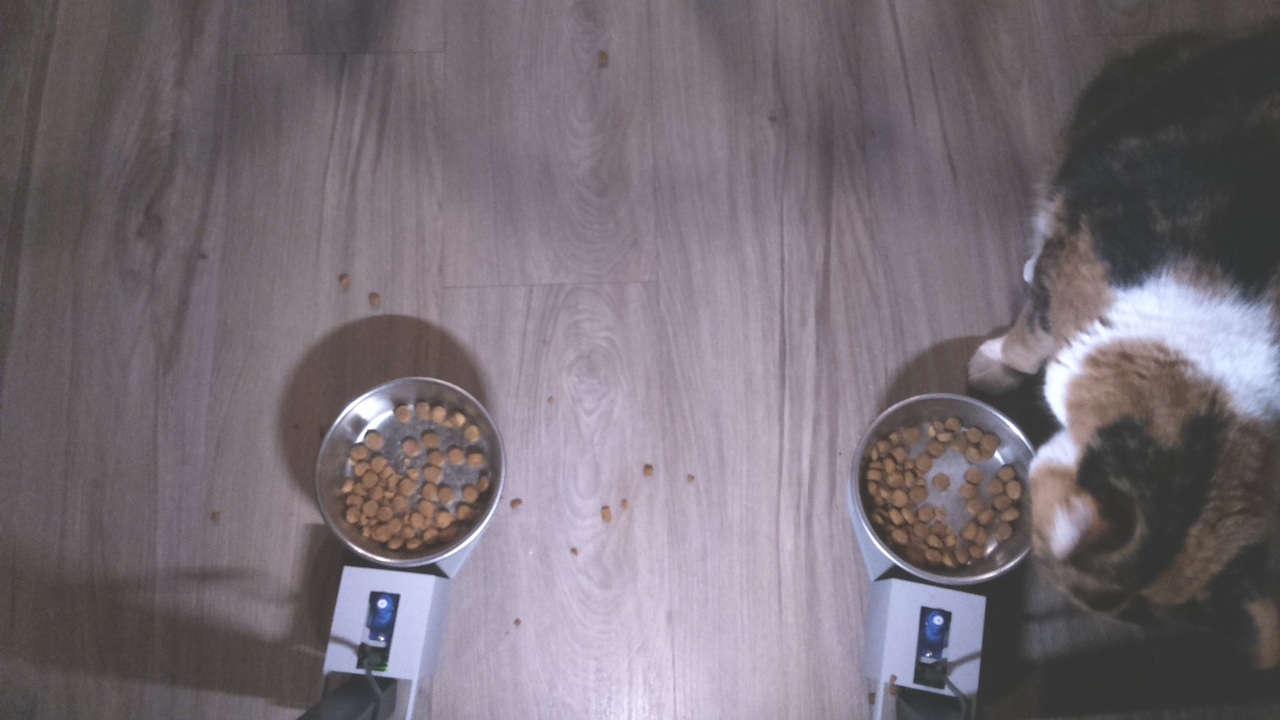bella: (1012, 405, 1280, 661)
open_bowl: (313, 371, 508, 573), (849, 389, 1040, 591)
